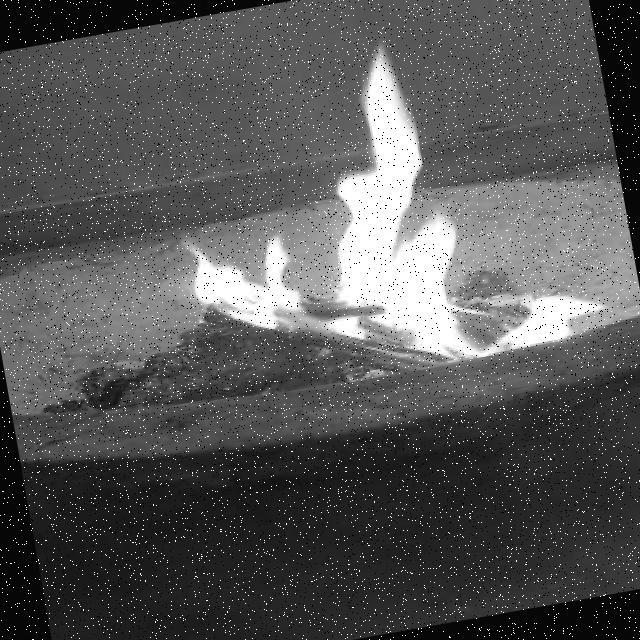Fire: (152, 3, 602, 411)
